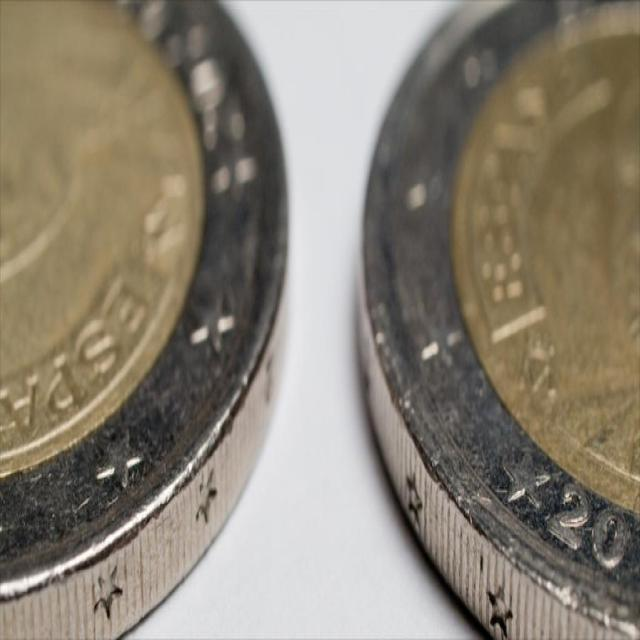Coin: (0, 0, 297, 638), (361, 0, 639, 638)
